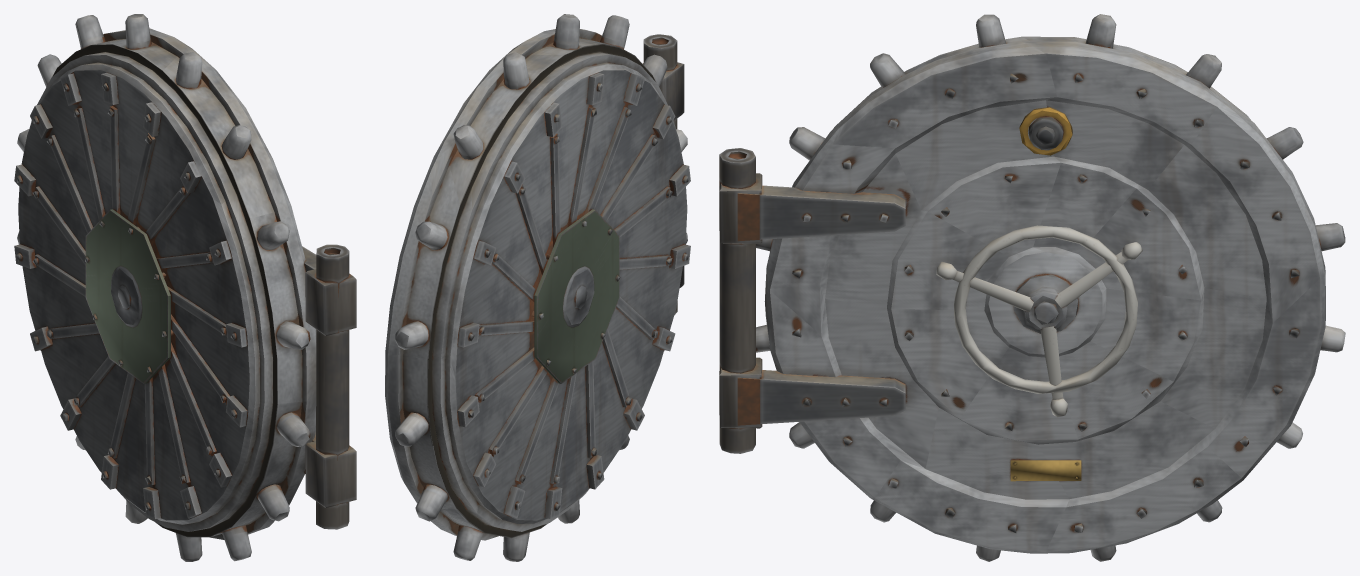
The model's file is SM_VaultDoor_Open_LOD1.fbx.
The picture shows the model from 3 angles, left to right: view 1: azimuth 30°, elevation 25°; view 2: azimuth 150°, elevation 25°; view 3: azimuth 270°, elevation 25°; orthographic projection. The views are drawn at different scales.
Parts seen in each view (by area): view 1: SM_VaultDoor_Open_LOD1; view 2: SM_VaultDoor_Open_LOD1; view 3: SM_VaultDoor_Open_LOD1.
Boxes of the visible parts, x1,y1,x2,y2 form: SM_VaultDoor_Open_LOD1: [14, 14, 356, 561]; SM_VaultDoor_Open_LOD1: [385, 14, 690, 561]; SM_VaultDoor_Open_LOD1: [719, 14, 1345, 561].
Size of the model in its own units: 73.14 by 389 by 406.
1 material, 1 textured.
